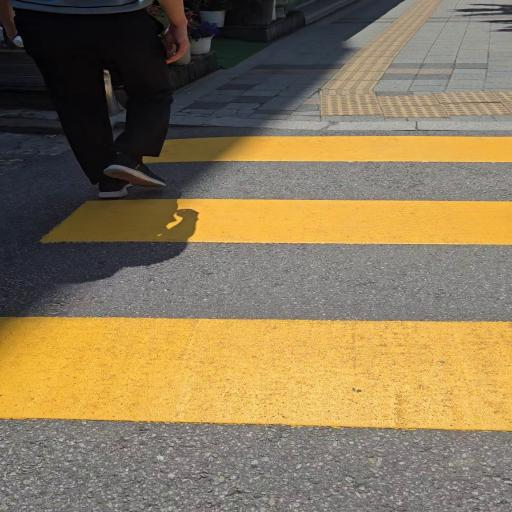yellow-crosswalk: (0, 125, 512, 512)
